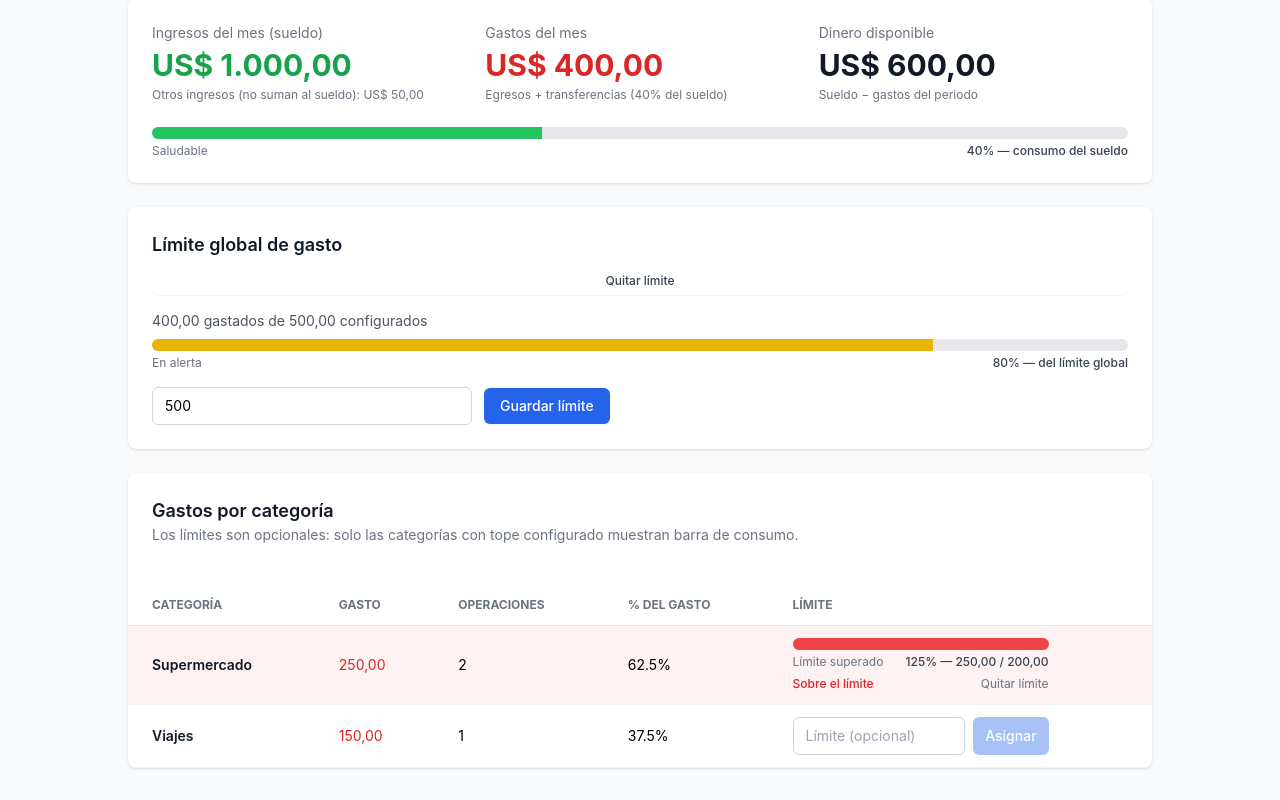
Test case: MonthlyReportView (resumen mensual) › surfaces the backend detail when saving a limit fails
(page scrolled)
Expected: the text "US$ 1.000,00" is shown, x1=152 y1=47 x2=352 y2=83
Type "300" into the number field named "Límite de Viajes (opcional)" at (879, 736), box x1=792 y1=717 x2=965 y2=755
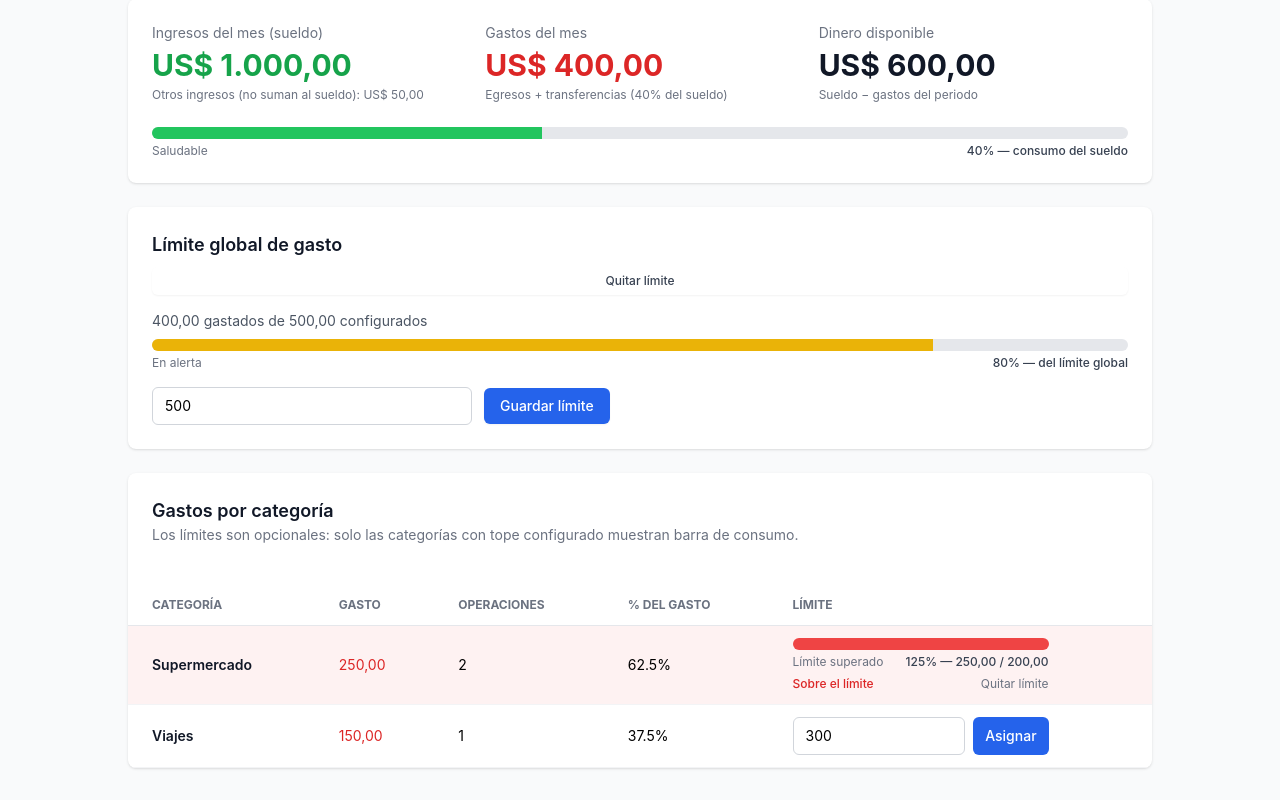
Click the button "Asignar" at (1011, 736), box x1=973 y1=717 x2=1048 y2=755
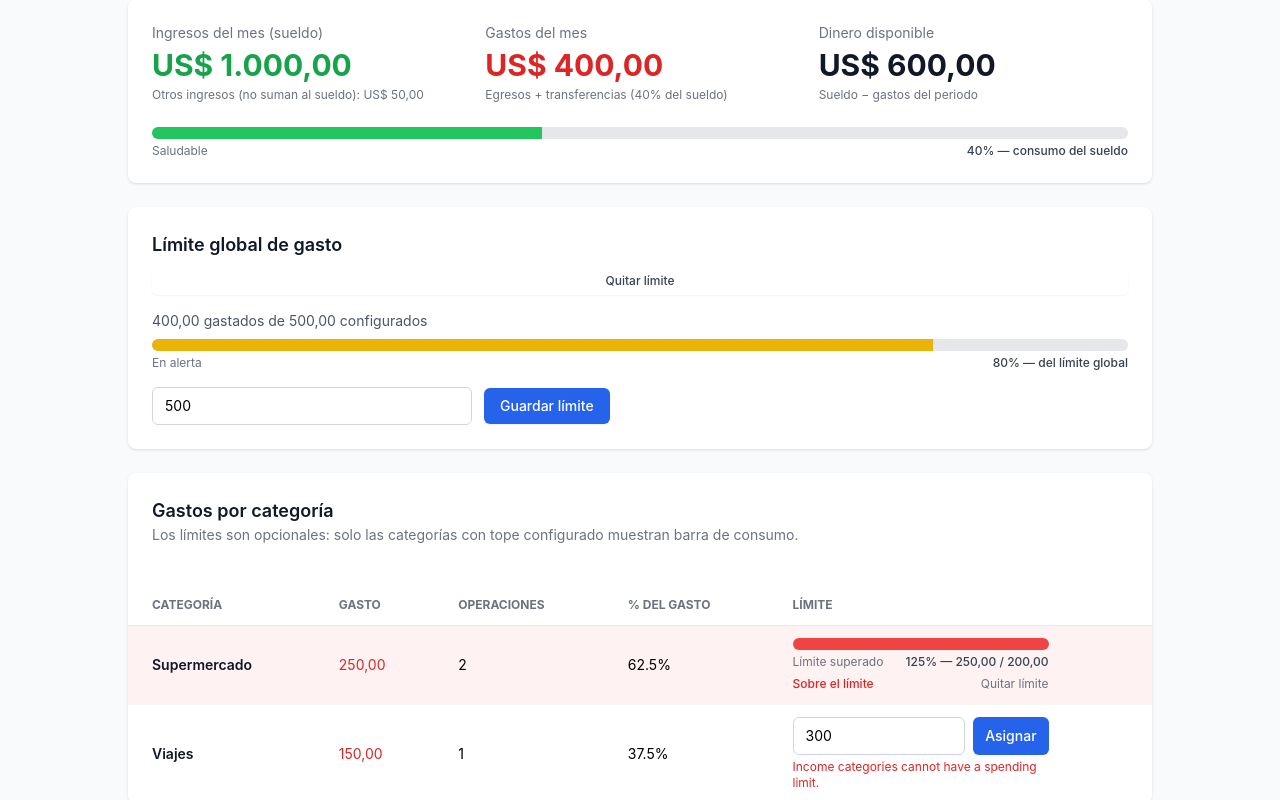
Now the text "Income categories cannot have a spending limit." is shown, box x1=792 y1=759 x2=1048 y2=791
